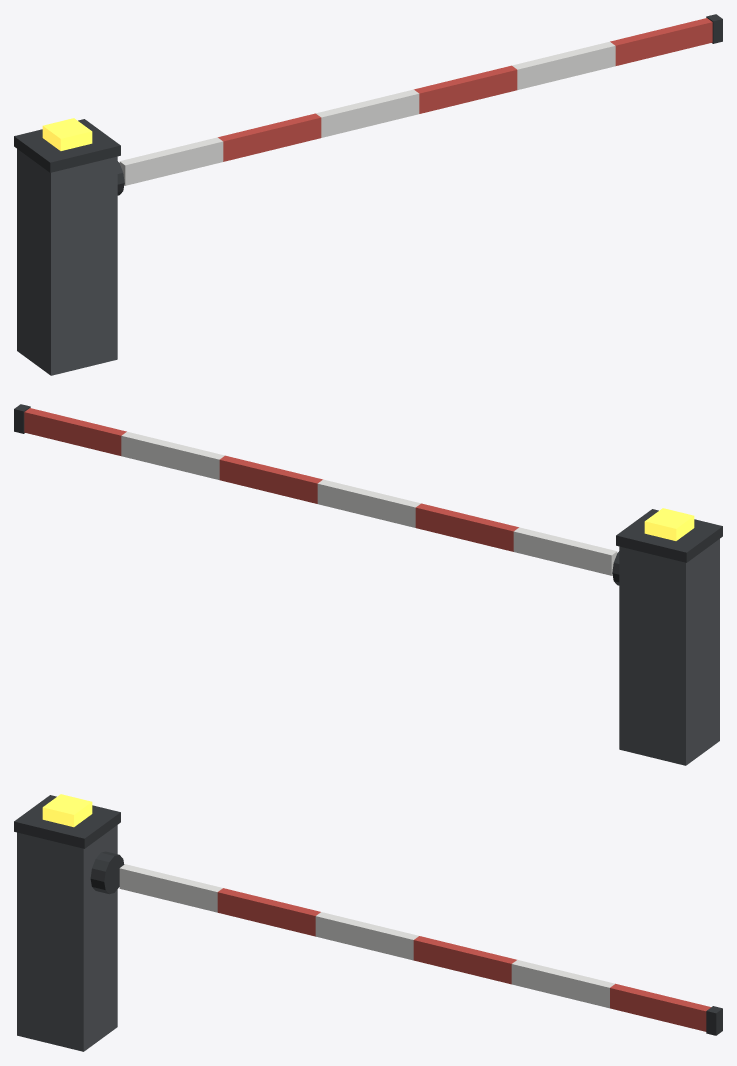
Rendered from barrier_arm.glb.
The picture shows the model from 3 angles, top to bottom: view 1: azimuth 30°, elevation 25°; view 2: azimuth 150°, elevation 25°; view 3: azimuth 330°, elevation 25°; orthographic projection.
Visible parts, largest first — view 1: barrier_arm; view 2: barrier_arm; view 3: barrier_arm.
Boxes of the visible parts, box(x1,y1,x2,y2) form: barrier_arm: box(14, 14, 722, 375); barrier_arm: box(14, 404, 722, 765); barrier_arm: box(14, 794, 722, 1051).
Size of the model in its own units: 3.51 by 1.11 by 0.3201.
